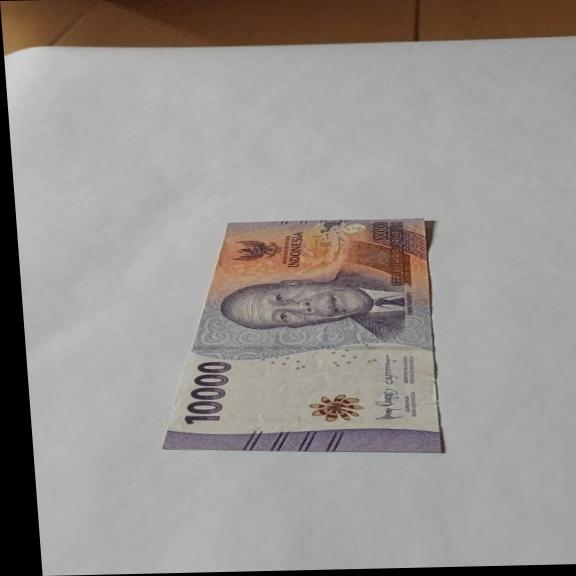Kertas: (142, 215, 449, 459), (177, 359, 236, 425)
